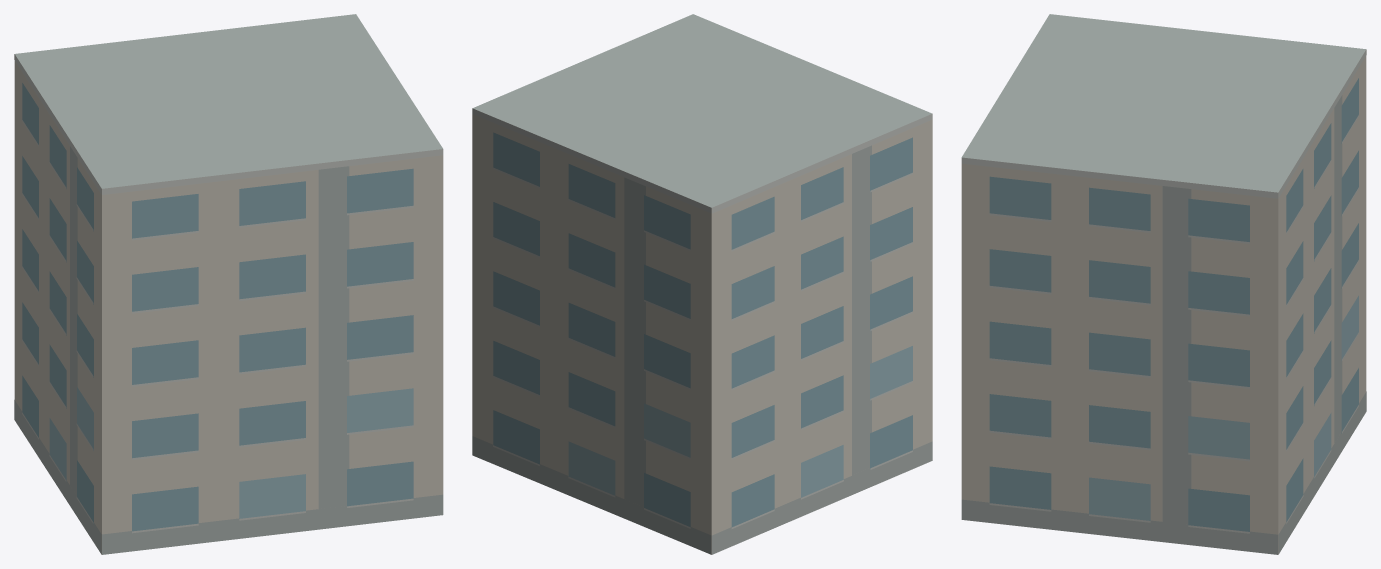
File: survey-upis-32916035.glb
3 renders of one model, left to right at view 1: azimuth 30°, elevation 25°; view 2: azimuth 150°, elevation 25°; view 3: azimuth 270°, elevation 25°, orthographic. The views are drawn at different scales.
Parts seen in each view (by area): view 1: survey-upis-32916035.tmp; view 2: survey-upis-32916035.tmp; view 3: survey-upis-32916035.tmp.
Part boxes in pixels (left/top/right/bottom): survey-upis-32916035.tmp: left=14, top=14, right=443, bottom=554; survey-upis-32916035.tmp: left=472, top=14, right=932, bottom=554; survey-upis-32916035.tmp: left=961, top=14, right=1366, bottom=554.
Bounding box in the file's own units: 15.17 × 14.34 × 14.54.
